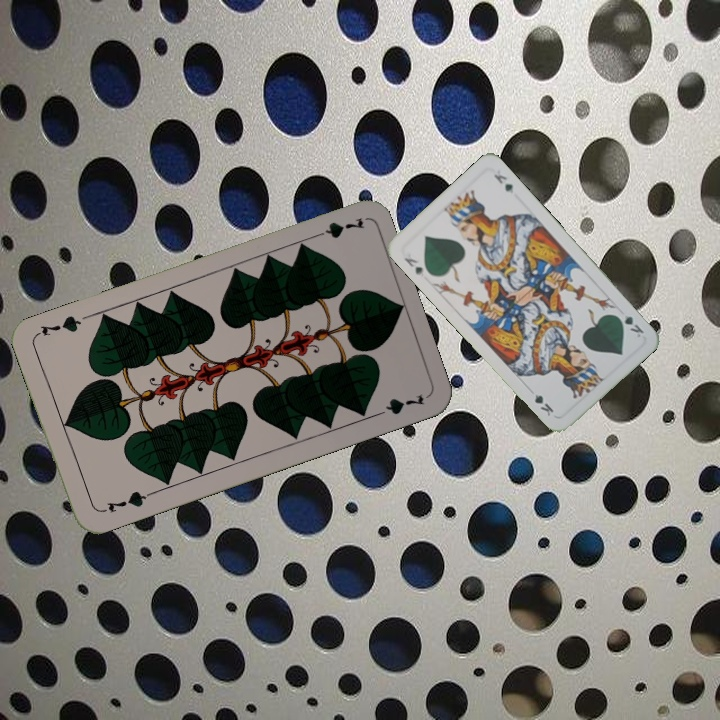G7: (307, 213, 367, 241), (103, 487, 154, 515)
GK: (612, 309, 647, 340), (400, 253, 427, 279)
